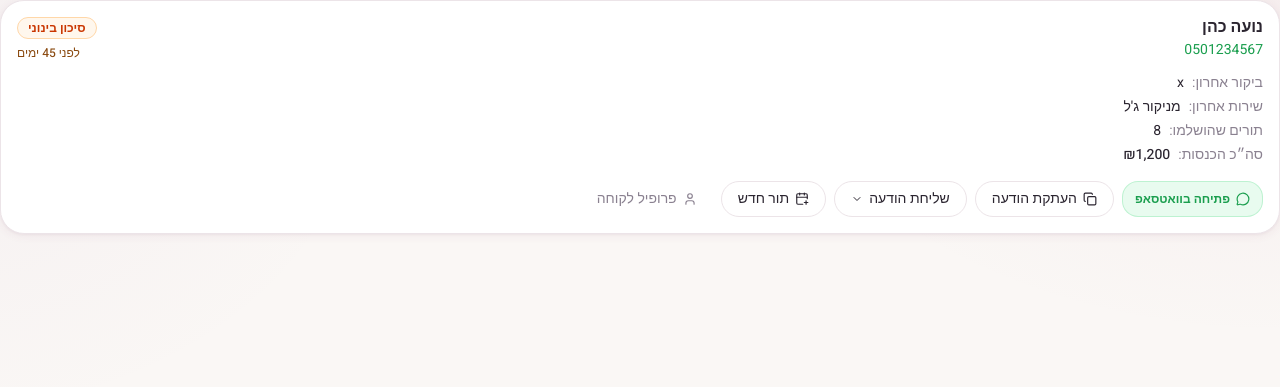
Test: AtRiskClientCard — message preview & copy › toggles the message preview open and closed
Check: the text "הודעת חזרה ללקוחה" is not shown
Click the button "שליחת הודעה" at (900,199), box [834, 181, 967, 217]
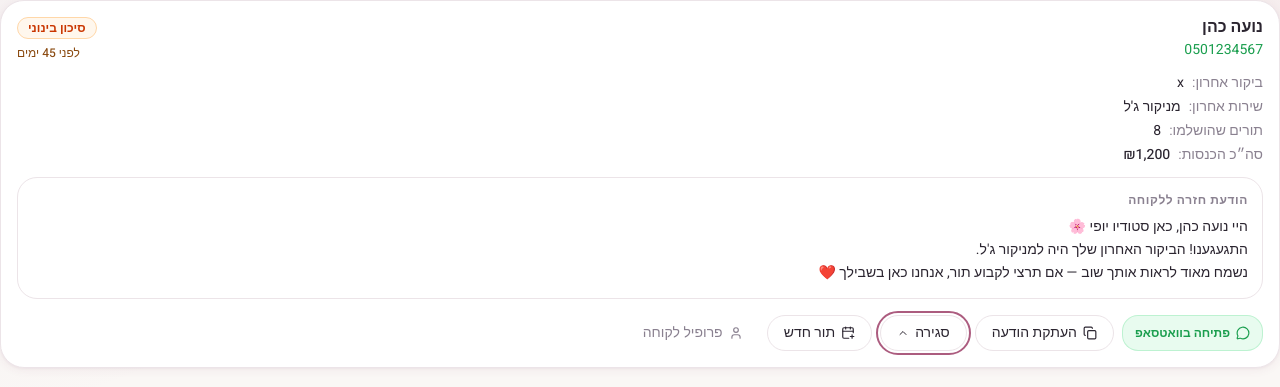
Check: the text "הודעת חזרה ללקוחה" is shown, box [1128, 191, 1248, 209]
Check: the text "התגעגענו" is shown, box [818, 216, 1248, 282]
Click the button "סגירה" at (923,333), box [880, 315, 967, 351]
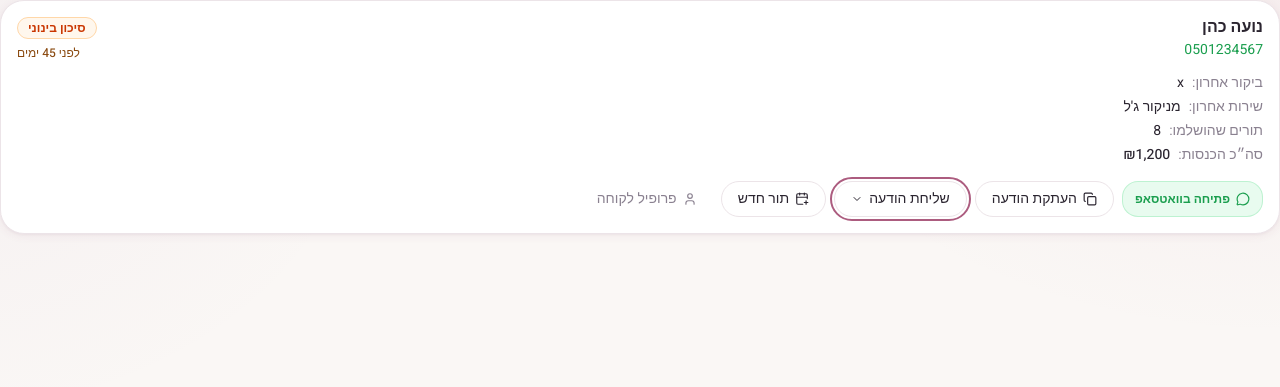
Check: the text "הודעת חזרה ללקוחה" is gone
